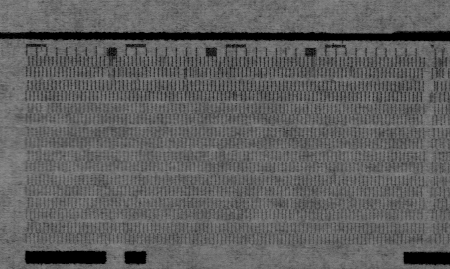Broken hole: (38, 101, 52, 114)
Oblique printing: (431, 173, 450, 224), (430, 56, 450, 83), (106, 53, 121, 82), (427, 79, 441, 105), (308, 54, 323, 69), (256, 66, 270, 81), (176, 66, 189, 81), (231, 90, 243, 103)
